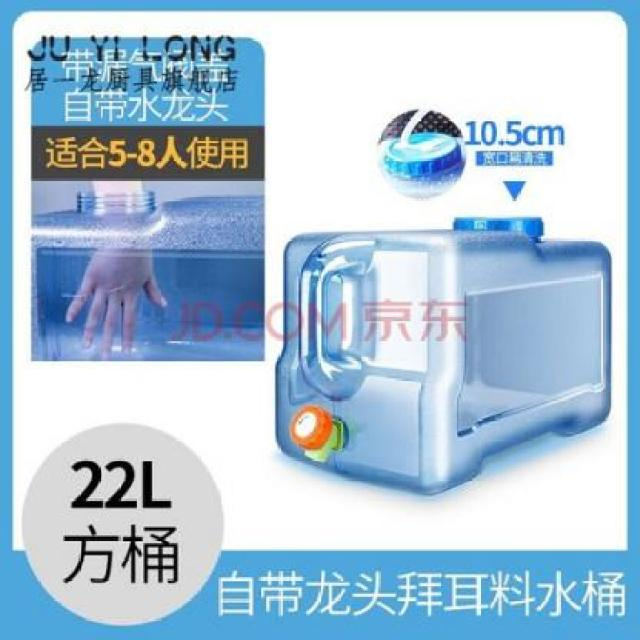coolerbottle: (266, 208, 619, 508)
